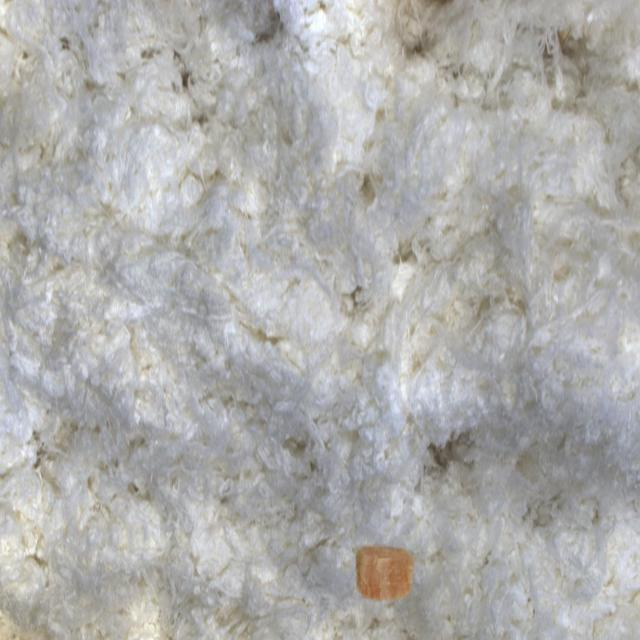dust: (311, 488, 451, 640)
